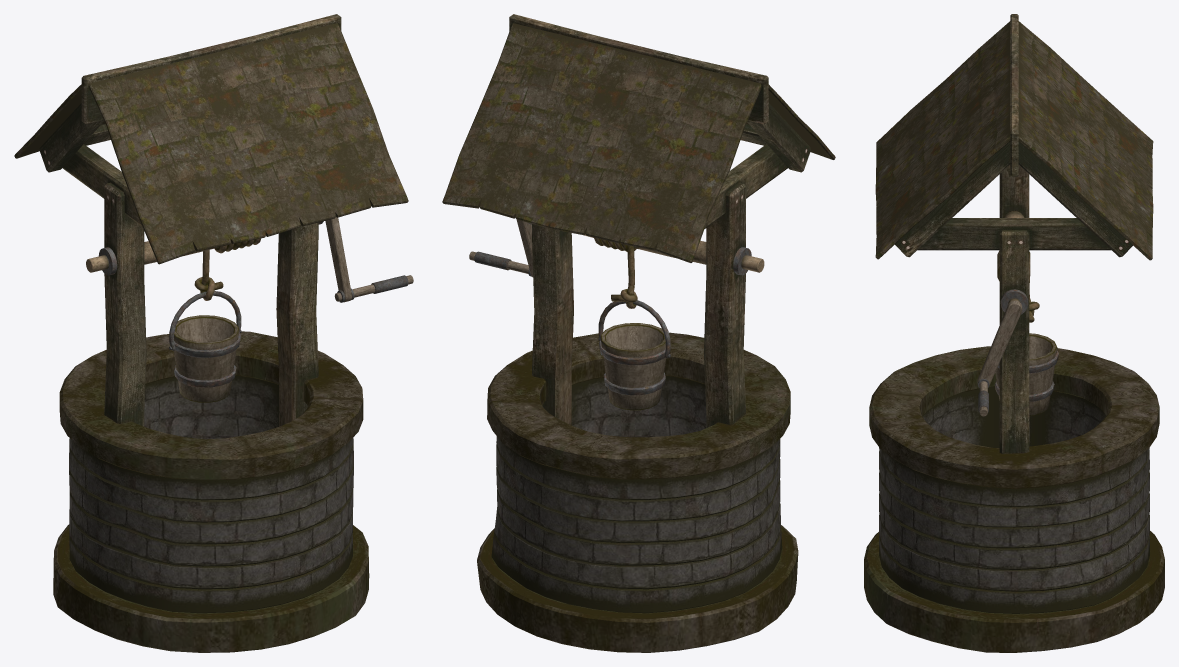
Rendered from well.glb.
3 renders of one model, left to right at view 1: azimuth 30°, elevation 25°; view 2: azimuth 150°, elevation 25°; view 3: azimuth 270°, elevation 25°, orthographic. The views are drawn at different scales.
Visible parts, largest first — view 1: Well_base, Well_roofRear, Well_frame, Bucket, Well_crank, Well_roofFront, Rope, Bucket_handle; view 2: Well_base, Well_roofFront, Well_frame, Bucket, Well_crank, Well_roofRear, Rope, Bucket_handle; view 3: Well_base, Well_frame, Well_roofFront, Well_roofRear, Well_crank, Bucket.
Part boxes in pixels (left/top/right/bottom): Well_base: left=53, top=331, right=369, bottom=652; Well_roofRear: left=89, top=23, right=408, bottom=264; Well_frame: left=39, top=14, right=341, bottom=426; Bucket: left=173, top=315, right=240, bottom=402; Well_crank: left=86, top=217, right=413, bottom=302; Well_roofFront: left=14, top=84, right=105, bottom=158; Rope: left=194, top=238, right=260, bottom=300; Bucket_handle: left=169, top=291, right=241, bottom=350; Well_base: left=477, top=332, right=798, bottom=652; Well_roofFront: left=442, top=23, right=761, bottom=262; Well_frame: left=509, top=14, right=810, bottom=427; Bucket: left=599, top=323, right=666, bottom=410; Well_crank: left=469, top=219, right=764, bottom=277; Well_roofRear: left=746, top=84, right=835, bottom=159; Rope: left=594, top=237, right=637, bottom=308; Bucket_handle: left=598, top=300, right=670, bottom=358; Well_base: left=864, top=346, right=1164, bottom=652; Well_frame: left=895, top=14, right=1132, bottom=453; Well_roofFront: left=1018, top=21, right=1153, bottom=260; Well_roofRear: left=875, top=21, right=1010, bottom=259; Well_crank: left=977, top=211, right=1028, bottom=416; Bucket: left=994, top=333, right=1058, bottom=416.
Bounding box in the file's own units: 1.24 × 2 × 1.06.
Materials: 4 (4 with a texture image).
